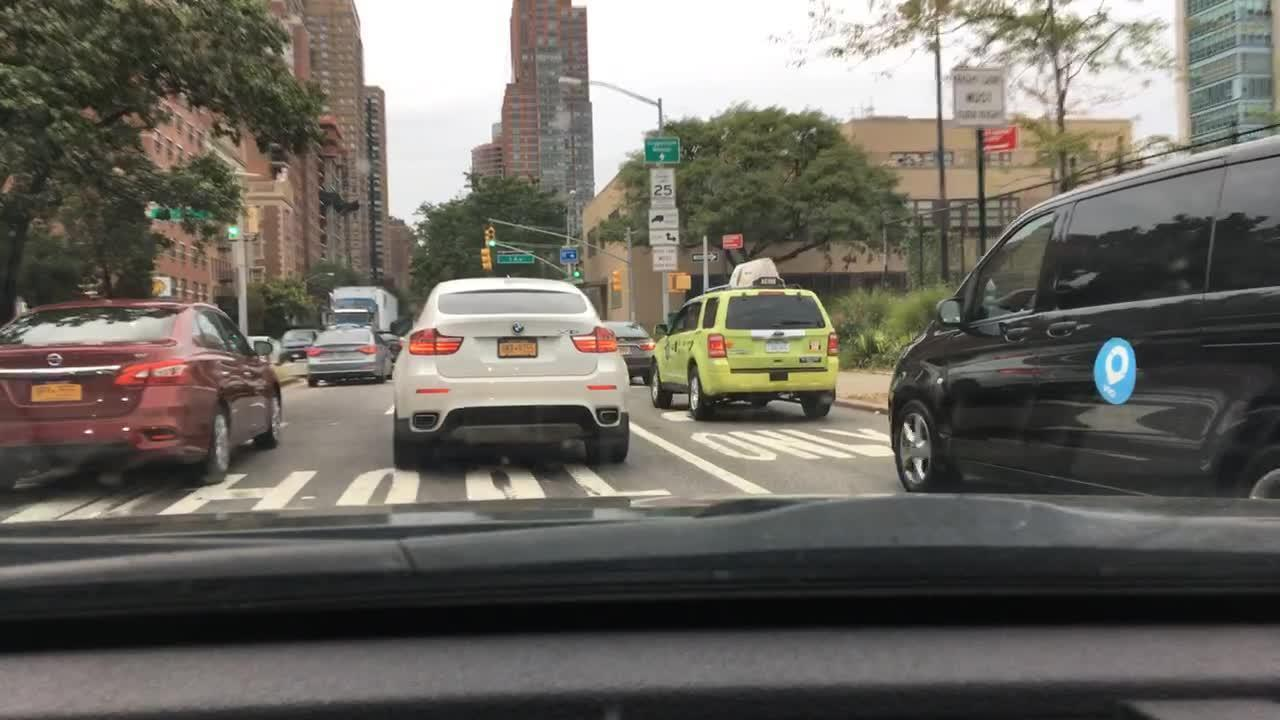Nissan: (41, 348, 69, 368)
bmw: (507, 319, 530, 339)
